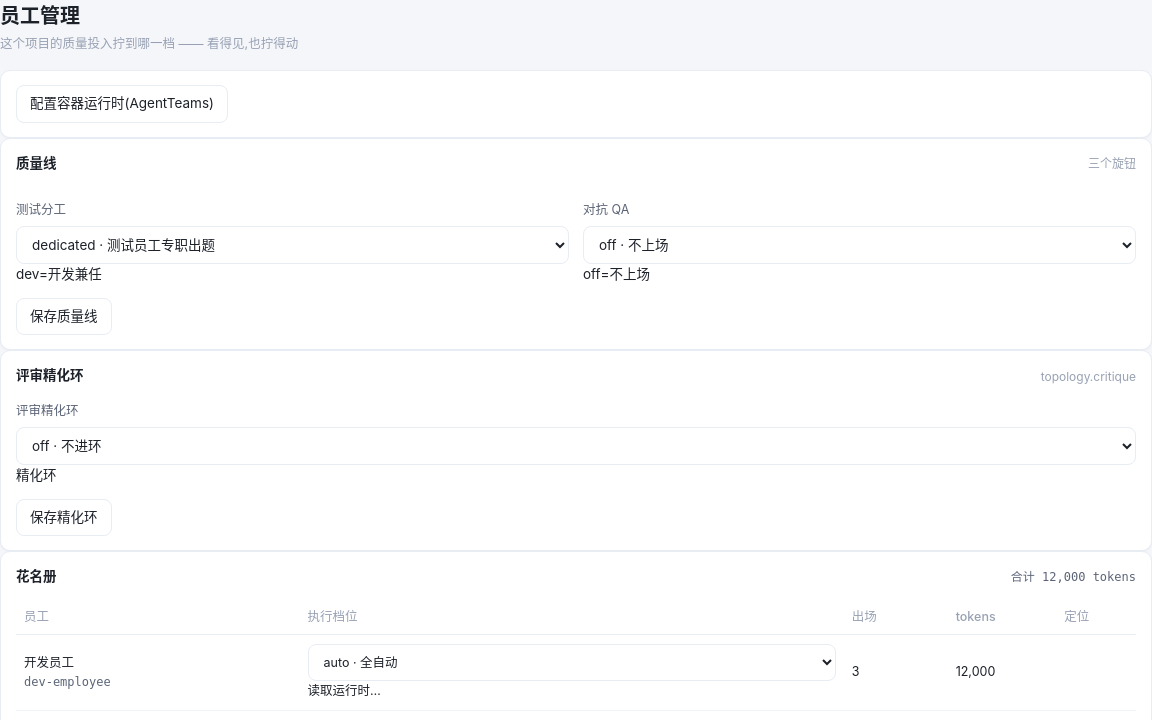
Test: 员工管理页 › puts the rung back when the write did not land
Step 1. Select "assisted · 产出先经人确认" in the dropdown named "开发员工的执行档位" → point(572, 662), box x1=308 y1=644 x2=836 y2=681
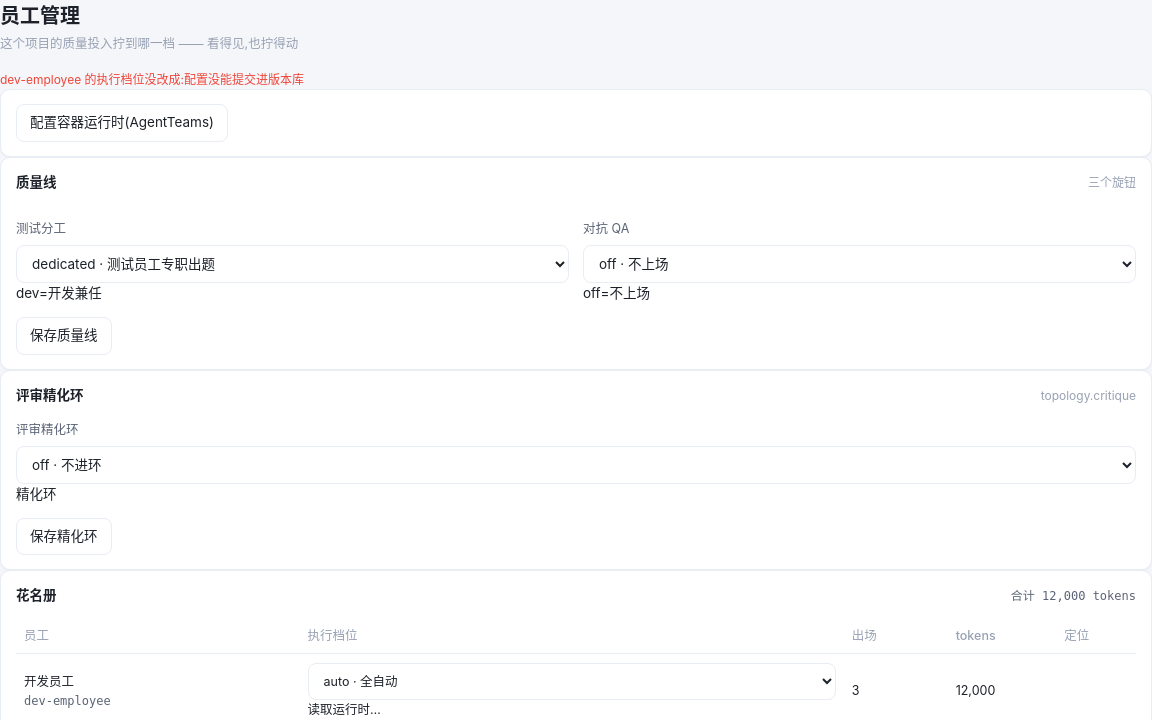
Expected: the text "dev-employee 的执行档位没改成:配置没能提交进版本库" is shown, x1=0 y1=72 x2=304 y2=87
